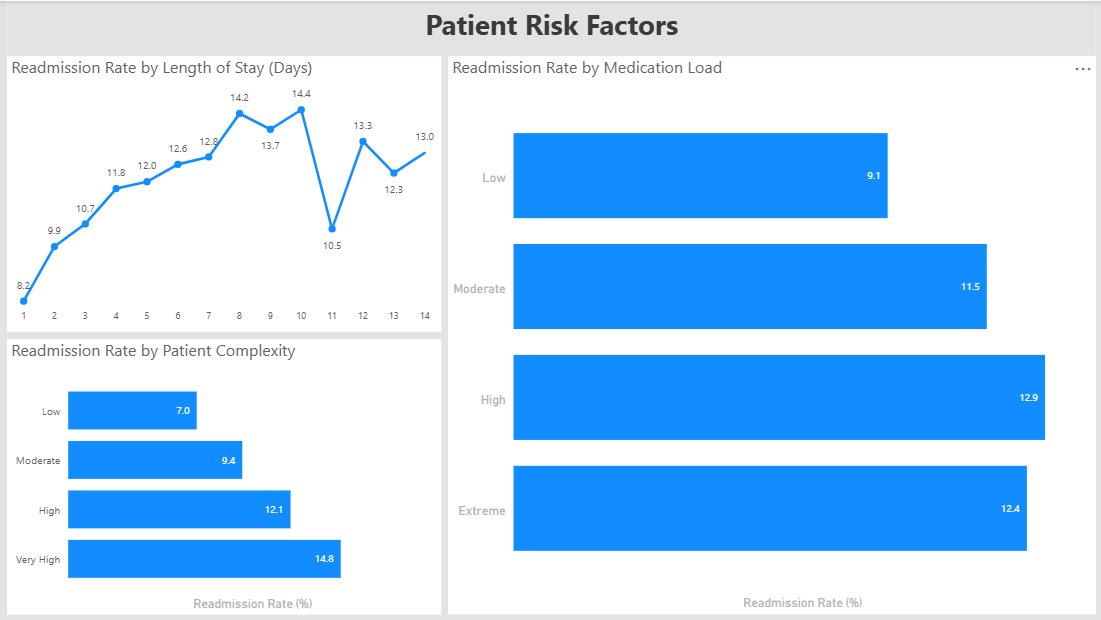

Layout of this report page (visuals, bound fields, positions):
{"tool":"powerbi","page":{"name":"Patient Risk Factors","canvas":[1280,720],"ordinal":1},"visuals":[{"type":"lineChart","title":"Readmission Rate by Length of Stay (Days)","fields":{"Category":["vw_readmission_by_los.time_in_hospital"],"Y":["Avg(vw_readmission_by_los.readmission_rate_pct)"]},"box":[8,64,504,320],"z":0},{"type":"barChart","title":"Readmission Rate by Medication Load","fields":{"Category":["vw_readmission_by_med_group.medication_group"],"Y":["stg_readmissions.Readmission Rate (%)"]},"box":[520,64,752,648],"z":1000},{"type":"barChart","title":"Readmission Rate by Patient Complexity","fields":{"Category":["vw_readmission_by_complexity.patient_complexity"],"Y":["Avg(vw_readmission_by_complexity.readmission_rate_pct)"]},"box":[8,392,504,320],"z":2000},{"type":"textbox","box":[8,0,1264,64],"z":3000}]}

Visuals, with their boxes in screenshot pixels (x1, y1, x2, y2), scaled from the page's 1280x720 canvas onto the 1101x620 screenshot:
"Readmission Rate by Length of Stay (Days)" lineChart: bbox(7, 55, 440, 331)
"Readmission Rate by Medication Load" barChart: bbox(447, 55, 1094, 613)
"Readmission Rate by Patient Complexity" barChart: bbox(7, 338, 440, 613)
textbox: bbox(7, 0, 1094, 55)
